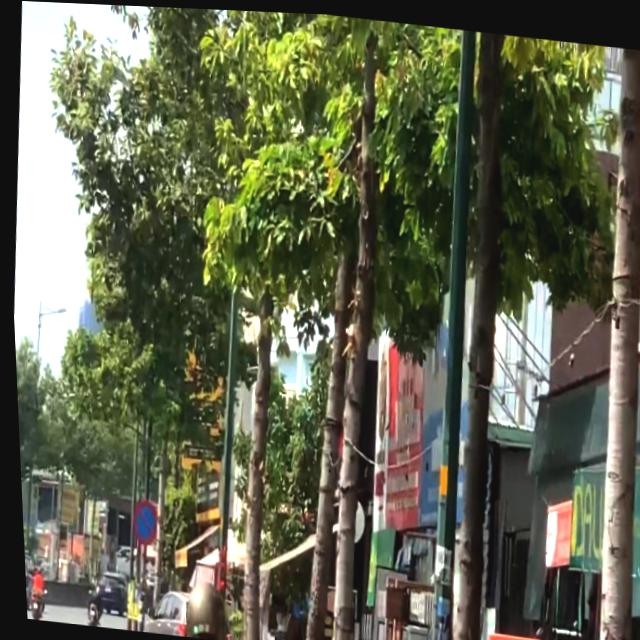Cam do xe: (125, 497, 154, 545)
